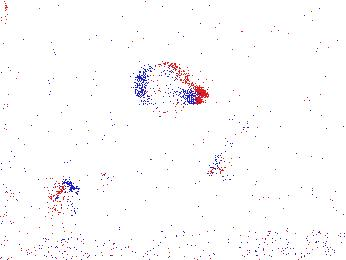flame jellyfish: (130, 62, 208, 115), (207, 111, 270, 176), (48, 158, 118, 205)
